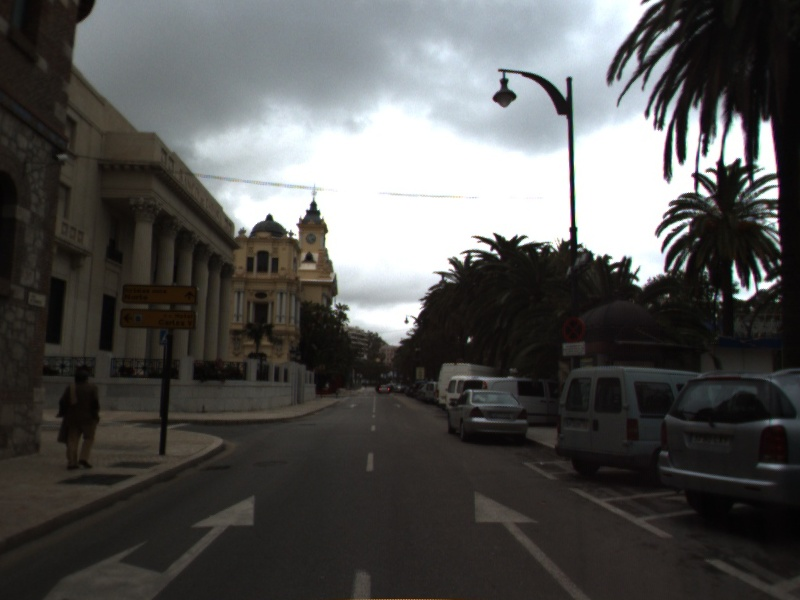STRAIGHT: (470, 487, 593, 600)
STRAIGHT_LEFT: (45, 491, 258, 600)
